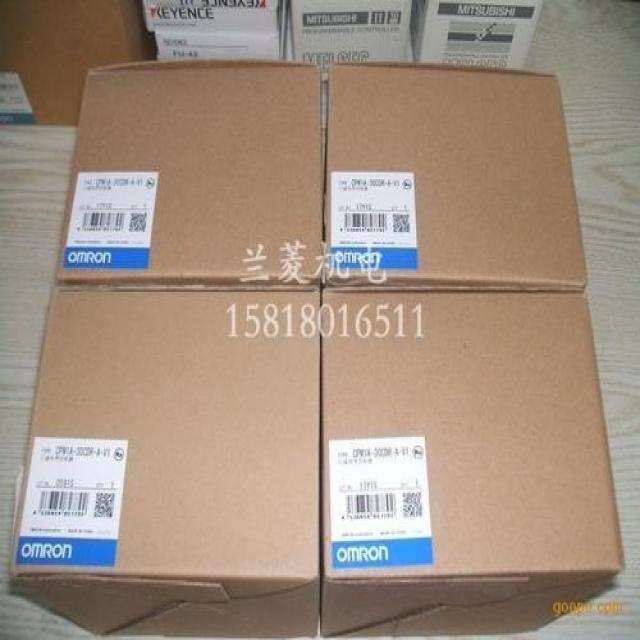box: (11, 285, 324, 638), (321, 293, 624, 637), (53, 59, 322, 289), (323, 62, 587, 291), (0, 0, 156, 126), (286, 3, 412, 128), (411, 1, 543, 70), (152, 21, 290, 61), (144, 1, 282, 34)
